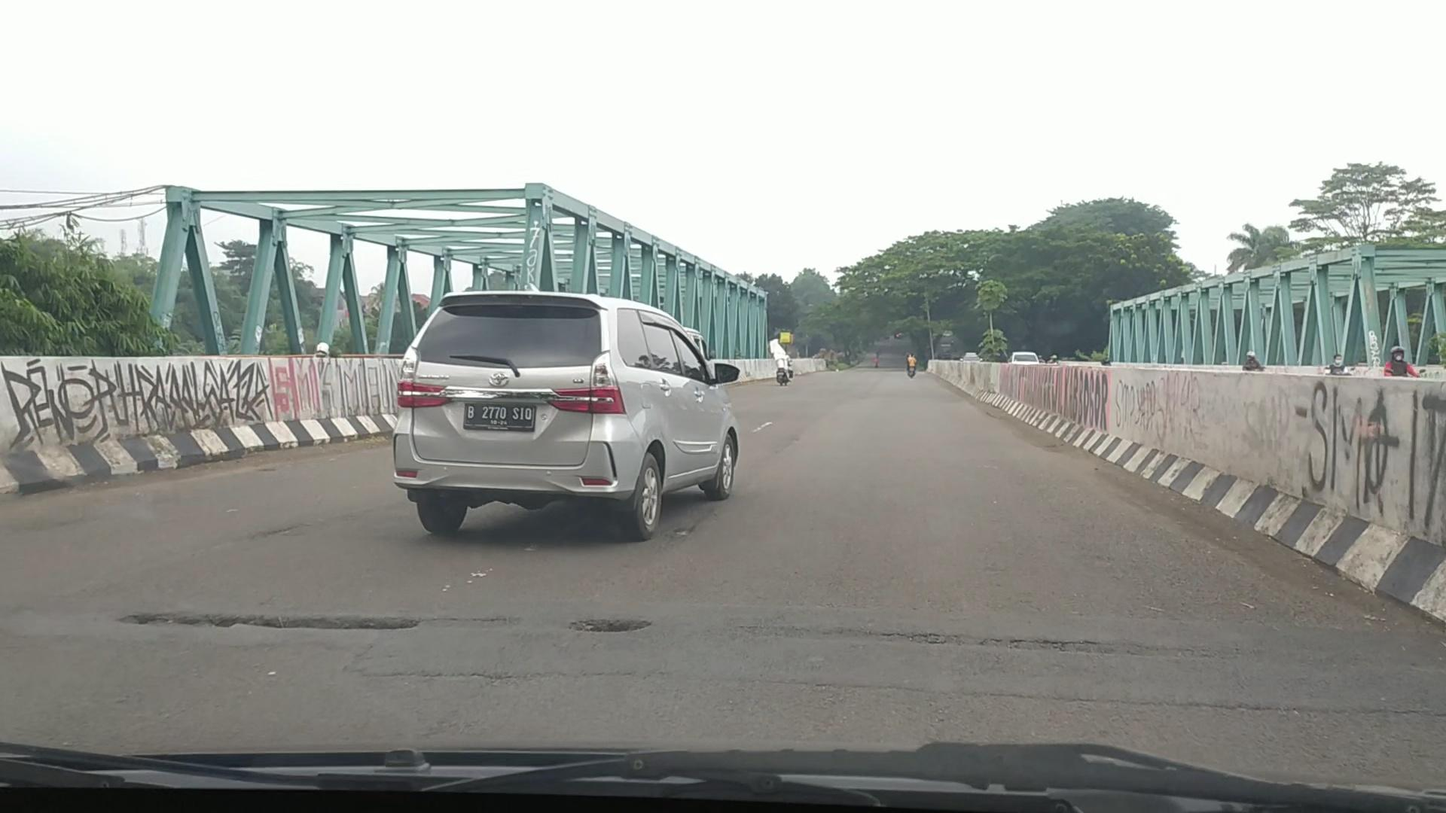pothole: (110, 608, 419, 631), (563, 609, 657, 636)
